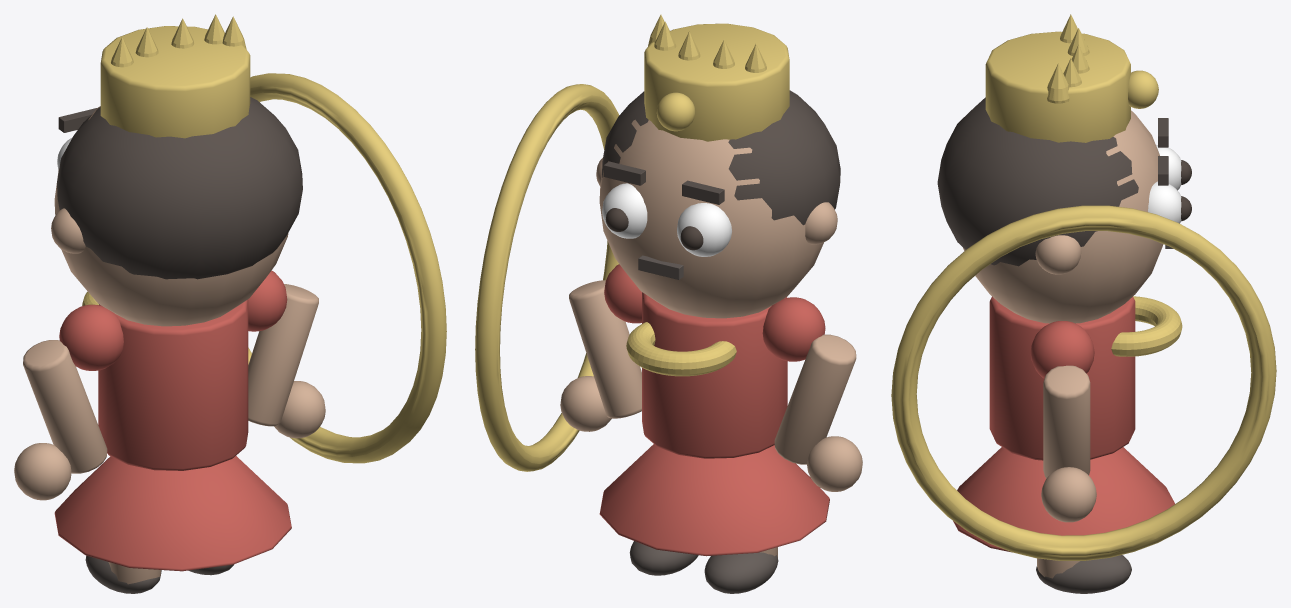
File: warrior.glb
The picture shows the model from 3 angles, left to right: view 1: azimuth 30°, elevation 25°; view 2: azimuth 150°, elevation 25°; view 3: azimuth 270°, elevation 25°; orthographic projection. The views are drawn at different scales.
Parts seen in each view (by area): view 1: GEO-warrior-hair, GEO-warrior-torso, GEO-warrior-dhoti, GEO-warrior-bow, GEO-warrior-mukut, GEO-warrior-head, GEO-warrior-arm, GEO-warrior-arm.001, GEO-warrior-shoulder, GEO-warrior-hand, GEO-warrior-hand.001, GEO-warrior-shoulder.001 (+3 smaller); view 2: GEO-warrior-head, GEO-warrior-dhoti, GEO-warrior-torso, GEO-warrior-bow, GEO-warrior-mukut, GEO-warrior-hair, GEO-warrior-arm, GEO-warrior-arm.001, GEO-warrior-necklace, GEO-warrior-shoulder, GEO-warrior-hand, GEO-warrior-shoe (+10 smaller); view 3: GEO-warrior-bow, GEO-warrior-hair, GEO-warrior-torso, GEO-warrior-head, GEO-warrior-mukut, GEO-warrior-dhoti, GEO-warrior-arm.001, GEO-warrior-shoulder.001, GEO-warrior-necklace, GEO-warrior-hand.001, GEO-warrior-shoe.001, GEO-warrior-ear.001 (+5 smaller).
Part boxes in pixels (box(x1,y1,x2,y2)): GEO-warrior-hair: box(57, 97, 302, 279); GEO-warrior-torso: box(98, 299, 248, 470); GEO-warrior-dhoti: box(54, 456, 291, 571); GEO-warrior-bow: box(248, 73, 446, 463); GEO-warrior-mukut: box(100, 26, 250, 138); GEO-warrior-head: box(54, 106, 288, 326); GEO-warrior-arm: box(23, 340, 107, 473); GEO-warrior-arm.001: box(248, 284, 318, 426); GEO-warrior-shoulder: box(59, 304, 123, 370); GEO-warrior-hand: box(14, 443, 71, 500); GEO-warrior-hand.001: box(274, 381, 325, 438); GEO-warrior-shoulder.001: box(248, 270, 287, 331); GEO-warrior-head: box(599, 119, 823, 318); GEO-warrior-dhoti: box(599, 444, 829, 556); GEO-warrior-torso: box(642, 292, 787, 458); GEO-warrior-bow: box(475, 84, 619, 471); GEO-warrior-mukut: box(644, 23, 789, 141); GEO-warrior-hair: box(602, 90, 840, 225); GEO-warrior-arm: box(774, 334, 856, 464); GEO-warrior-arm.001: box(569, 280, 641, 418); GEO-warrior-necklace: box(626, 322, 736, 376); GEO-warrior-shoulder: box(762, 297, 825, 361); GEO-warrior-hand: box(807, 436, 862, 491); GEO-warrior-shoe: box(704, 552, 778, 593); GEO-warrior-bow: box(891, 205, 1276, 560); GEO-warrior-hair: box(937, 97, 1138, 266); GEO-warrior-torso: box(989, 296, 1135, 460); GEO-warrior-head: box(963, 110, 1163, 323); GEO-warrior-mukut: box(985, 31, 1130, 142); GEO-warrior-dhoti: box(953, 447, 1174, 552); GEO-warrior-arm.001: box(1043, 365, 1090, 478); GEO-warrior-shoulder.001: box(1030, 321, 1094, 378); GEO-warrior-necklace: box(1111, 296, 1182, 356); GEO-warrior-hand.001: box(1041, 467, 1096, 522); GEO-warrior-shoe.001: box(1036, 555, 1131, 593); GEO-warrior-ear.001: box(1035, 235, 1081, 274).
Bounding box in the file's own units: 1.77 × 2.76 × 1.8.
